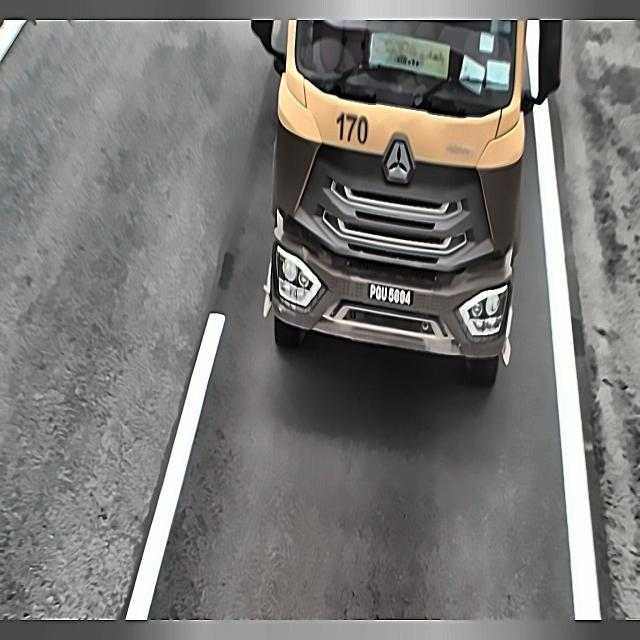car: (364, 274, 419, 317)
